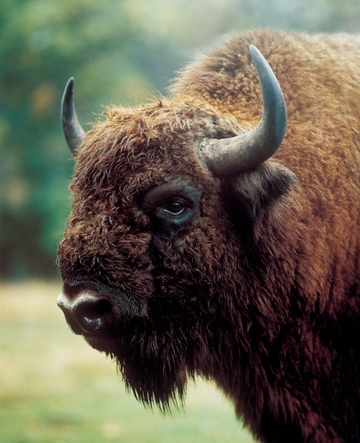zubr: (37, 5, 360, 431)
